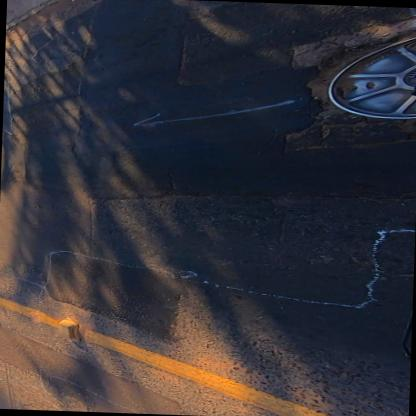manholes: (316, 27, 416, 125)
